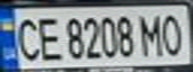0: (100, 12, 121, 60)
2: (81, 12, 103, 60)
8: (60, 14, 84, 61), (115, 11, 139, 58)
C: (9, 12, 45, 63)
E: (33, 12, 63, 62)
M: (136, 10, 166, 57)
O: (157, 10, 190, 56)
